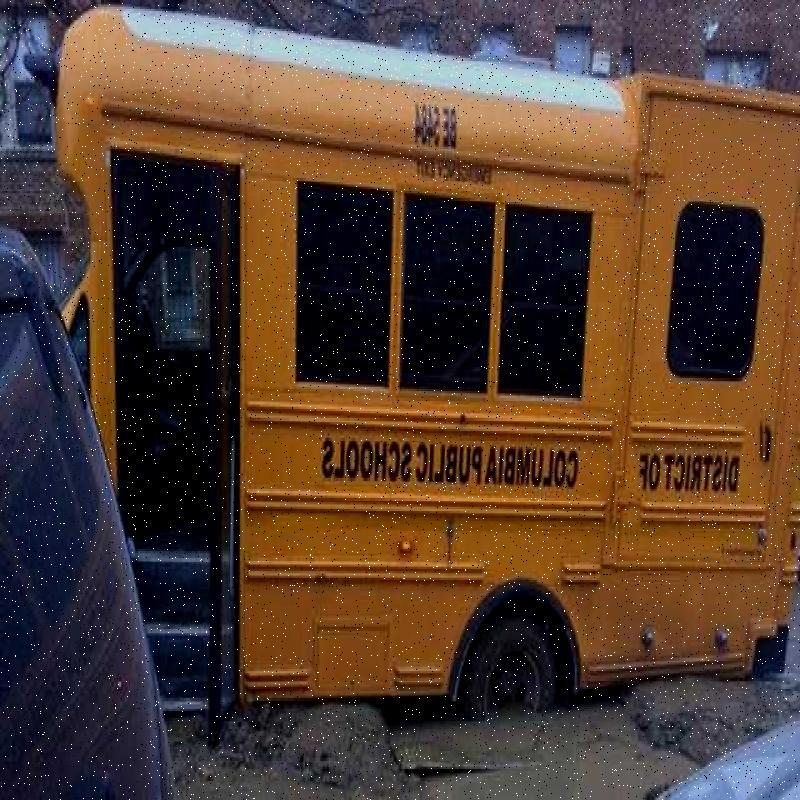bus: (57, 46, 784, 710)
